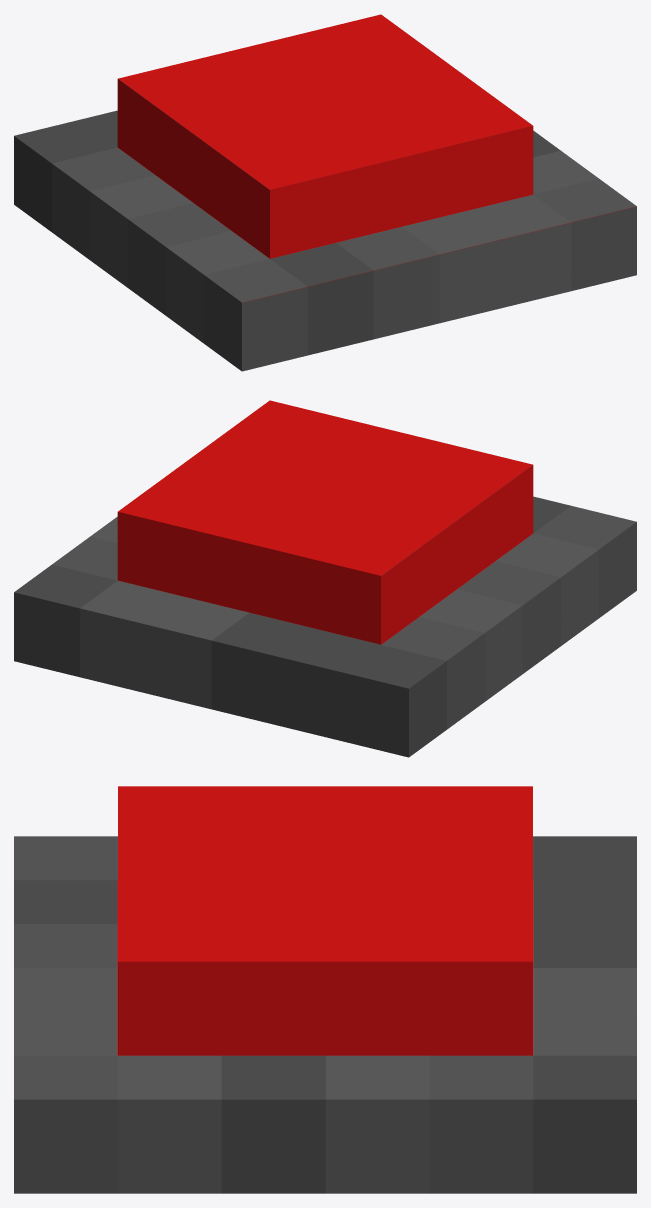
File: Button_Floor_Big_Red.glb
3 renders of one model, top to bottom at view 1: azimuth 30°, elevation 25°; view 2: azimuth 150°, elevation 25°; view 3: azimuth 270°, elevation 25°, orthographic. The views are drawn at different scales.
Parts seen in each view (by area): view 1: Button_Floor_Big_Red; view 2: Button_Floor_Big_Red; view 3: Button_Floor_Big_Red.
Part boxes in pixels (<box>): Button_Floor_Big_Red: <box>14,14,636,371</box>; Button_Floor_Big_Red: <box>14,400,636,757</box>; Button_Floor_Big_Red: <box>14,786,636,1193</box>.
Bounding box in the file's own units: 0.6 × 0.2 × 0.6.
Materials: 1 (1 with a texture image).
